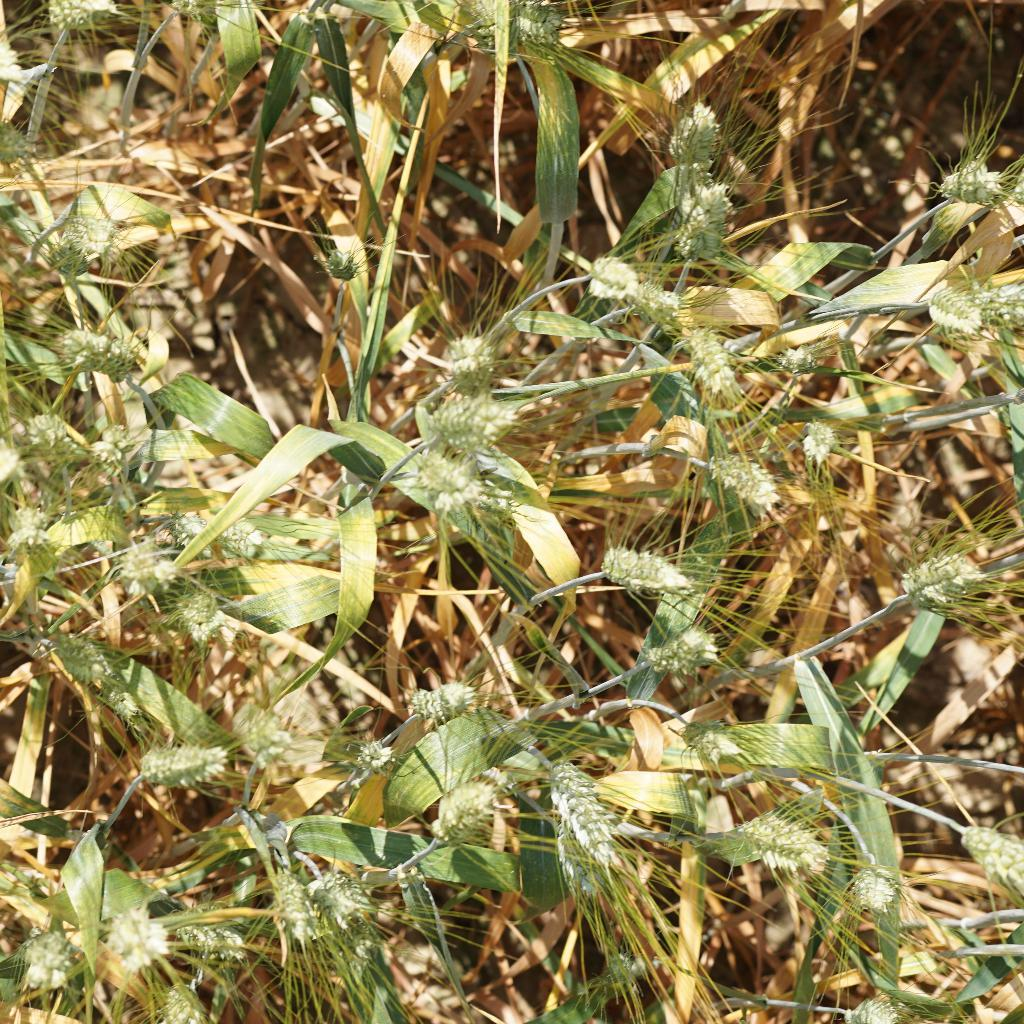0-0: (722, 800, 843, 884), (542, 759, 626, 877), (40, 628, 149, 717), (874, 534, 985, 617), (115, 724, 235, 791), (408, 440, 504, 522), (160, 507, 280, 572), (414, 772, 508, 854), (672, 316, 754, 407), (589, 253, 686, 329), (578, 544, 695, 606), (52, 317, 152, 388), (4, 916, 88, 1000), (40, 202, 127, 283), (671, 172, 747, 262), (686, 445, 780, 516), (950, 806, 1023, 897), (309, 869, 381, 960), (419, 391, 524, 453), (636, 613, 731, 677), (171, 905, 257, 974), (393, 665, 497, 722), (225, 690, 302, 765), (934, 144, 1014, 216), (432, 313, 504, 392), (268, 874, 343, 948), (20, 407, 99, 477), (159, 578, 230, 651), (105, 901, 174, 975), (925, 275, 993, 350), (105, 534, 186, 593), (666, 93, 727, 167), (470, 0, 542, 58), (33, 0, 129, 41), (331, 724, 403, 778), (145, 971, 217, 1024), (1, 501, 59, 565), (841, 860, 900, 919), (773, 326, 830, 387), (310, 230, 370, 287), (686, 712, 743, 770), (966, 277, 1024, 330), (1, 120, 49, 182), (834, 985, 909, 1024), (800, 407, 844, 471), (595, 944, 637, 989)
